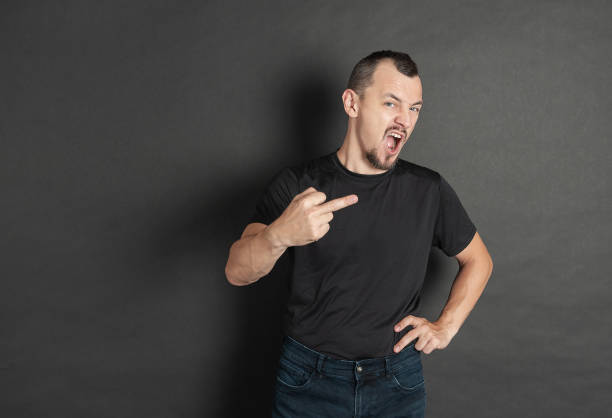insulting_gesture: (280, 188, 357, 248)
